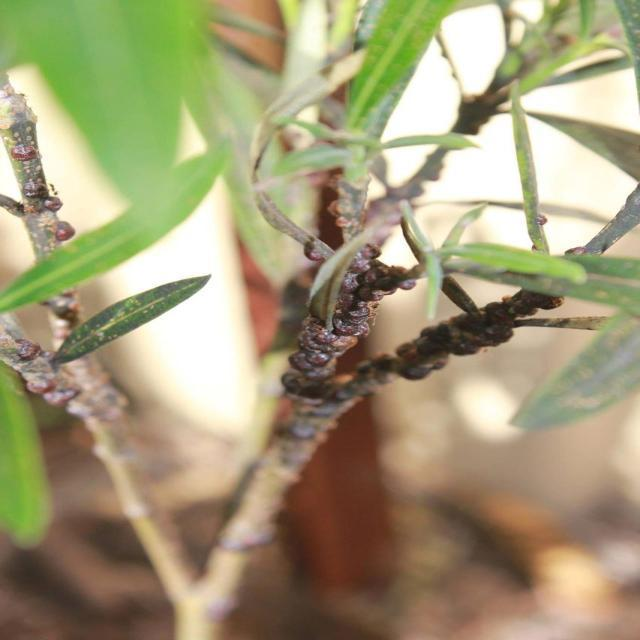BlackScale: (354, 289, 574, 396), (282, 246, 371, 416), (0, 313, 127, 432), (0, 135, 75, 251), (303, 175, 356, 263), (358, 259, 417, 302), (45, 291, 78, 349), (557, 246, 586, 257), (534, 216, 548, 230)
